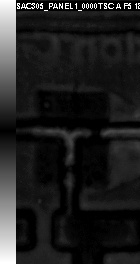led: (37, 92, 109, 186)
